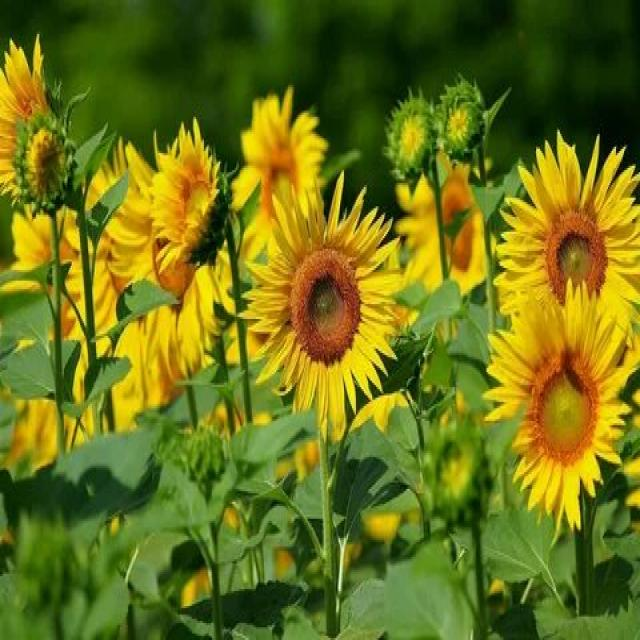sunflower: (494, 123, 640, 410), (253, 168, 399, 451), (485, 274, 635, 530), (142, 117, 230, 289)
